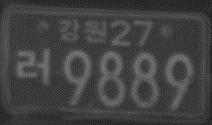2: (109, 18, 132, 46)
7: (134, 19, 153, 48)
8: (130, 51, 162, 108), (96, 50, 127, 106)
9: (63, 48, 93, 107), (165, 52, 196, 109)
강원_O: (56, 17, 107, 43)
러: (15, 46, 52, 85)
